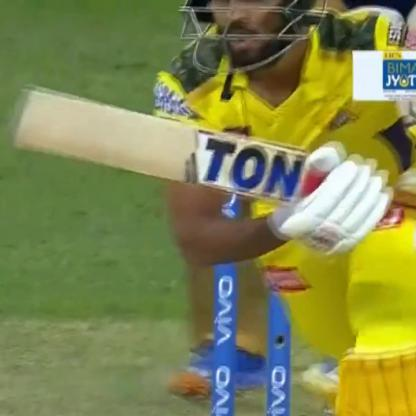bat: (11, 86, 404, 197)
